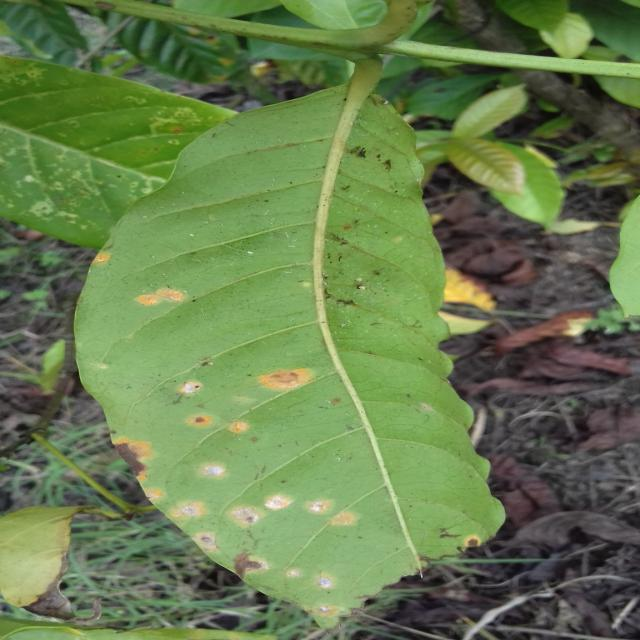Enfermedad-Roya: (74, 60, 506, 618)
